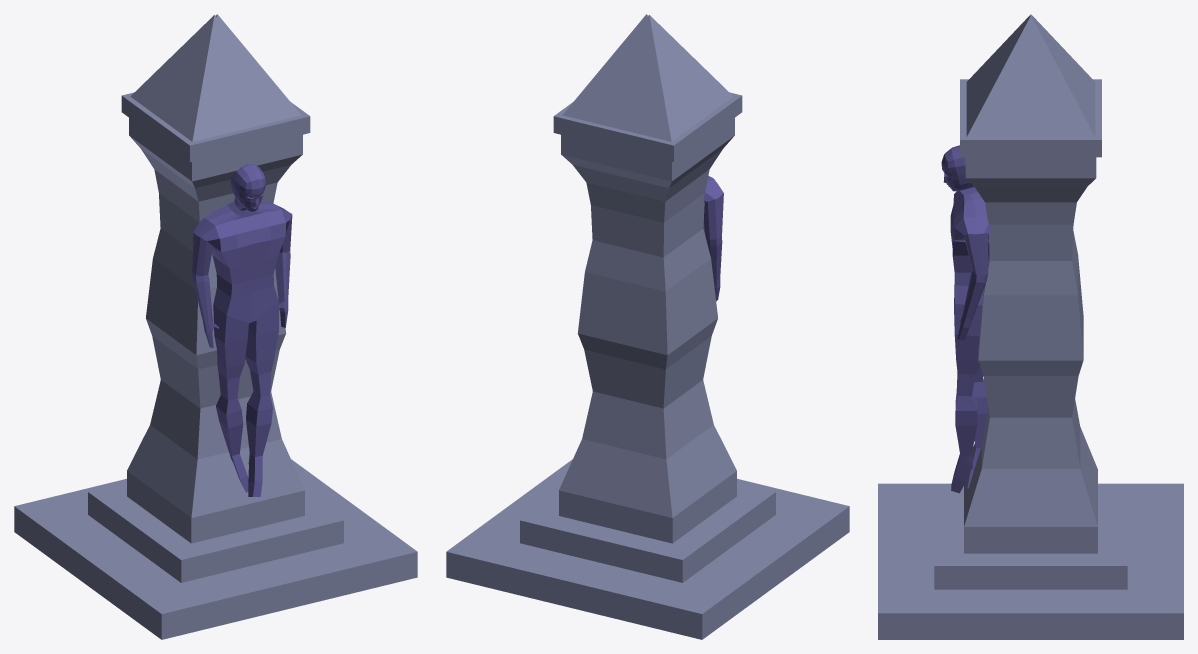
File: godstatue3.fbx
The picture shows the model from 3 angles, left to right: view 1: azimuth 30°, elevation 25°; view 2: azimuth 150°, elevation 25°; view 3: azimuth 270°, elevation 25°; orthographic projection. The views are drawn at different scales.
Parts seen in each view (by area): view 1: godstatue3; view 2: godstatue3; view 3: godstatue3.
Boxes of the visible parts, x1,y1,x2,y2 form: godstatue3: [14, 14, 417, 639]; godstatue3: [446, 14, 849, 639]; godstatue3: [878, 14, 1183, 639].
Size of the model in its own units: 193 by 389 by 192.
